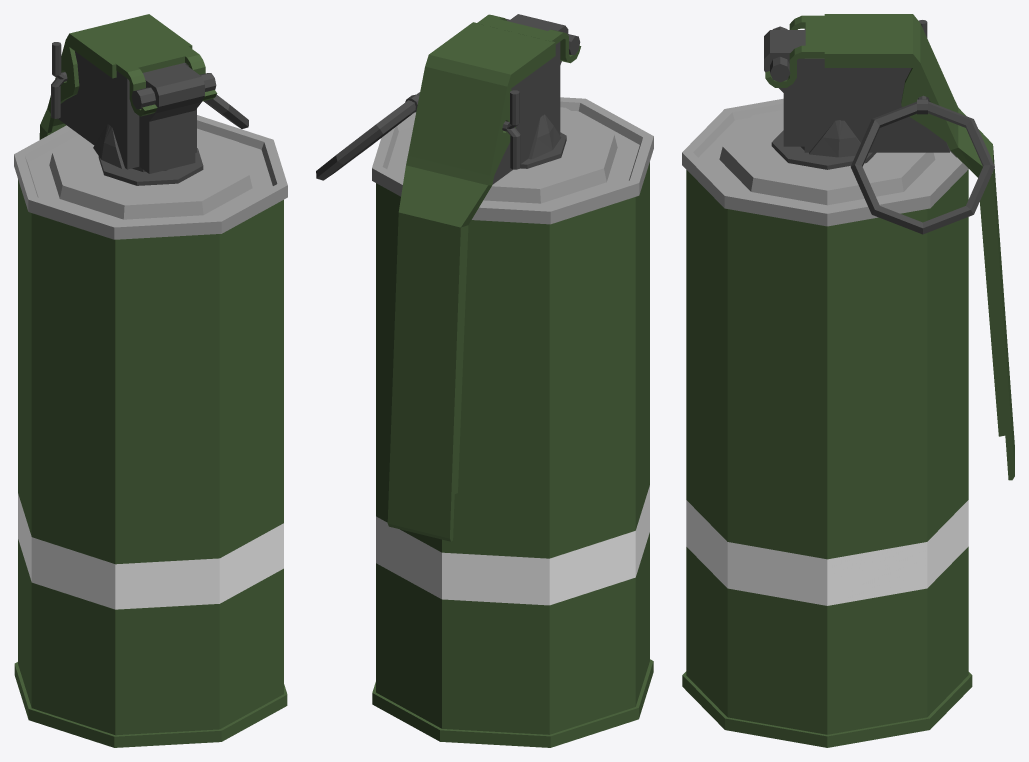
File: Smoke Grenade.glb
3 renders of one model, left to right at view 1: azimuth 30°, elevation 25°; view 2: azimuth 150°, elevation 25°; view 3: azimuth 270°, elevation 25°, orthographic. The views are drawn at different scales.
Parts seen in each view (by area): view 1: Object_4, Object_3, Object_5, Object_2; view 2: Object_4, Object_3, Object_2, Object_5; view 3: Object_4, Object_5, Object_3, Object_2.
Boxes of the visible parts, x1,y1,x2,y2 form: Object_4: (14, 14, 287, 747); Object_3: (14, 115, 287, 239); Object_5: (51, 42, 248, 185); Object_2: (18, 493, 283, 609); Object_4: (372, 14, 653, 747); Object_3: (372, 97, 653, 224); Object_2: (376, 485, 649, 605); Object_5: (316, 14, 580, 184); Object_4: (682, 14, 1014, 747); Object_5: (764, 20, 994, 234); Object_3: (682, 98, 968, 226); Object_2: (686, 500, 968, 605).
Bounding box in the file's own units: 0.0628 × 0.1493 × 0.069.
